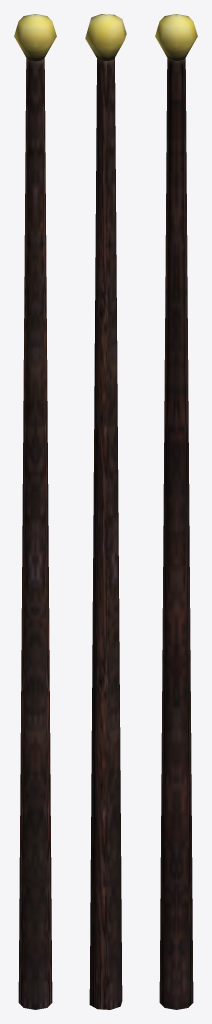
The model's file is FlagPole.glb.
3 renders of one model, left to right at view 1: azimuth 90°, elevation 25°; view 2: azimuth 150°, elevation 25°; view 3: azimuth 270°, elevation 25°, orthographic.
Visible parts, largest first — view 1: FLAGPOLE; view 2: FLAGPOLE; view 3: FLAGPOLE.
Boxes of the visible parts, x1,y1,x2,y2 form: FLAGPOLE: [14, 14, 56, 1009]; FLAGPOLE: [85, 14, 126, 1009]; FLAGPOLE: [155, 14, 197, 1009].
Bounding box in the file's own units: 0.288 × 7.32 × 0.288.
1 material, 1 textured.
